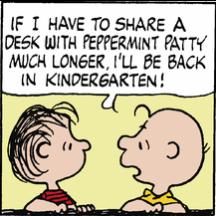charlie: (116, 102, 210, 214)
